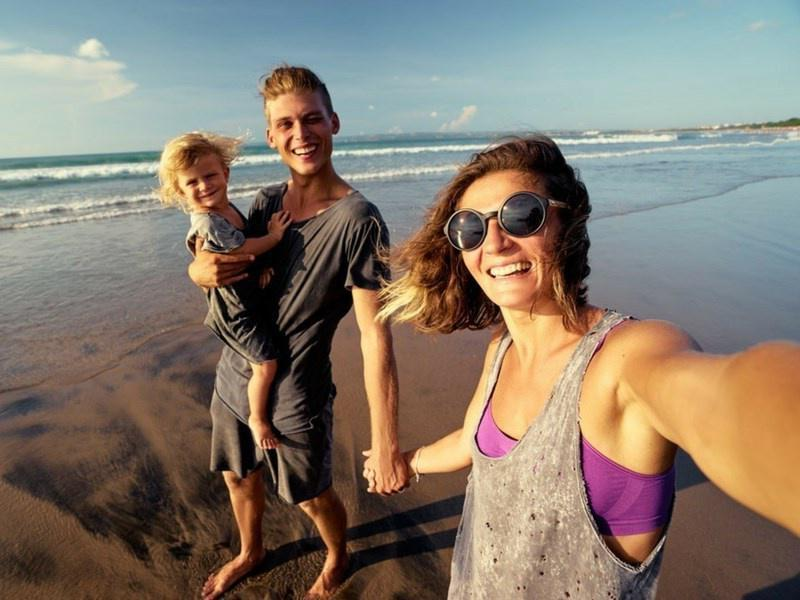face: (455, 170, 556, 308), (268, 91, 332, 174), (177, 156, 228, 207)
